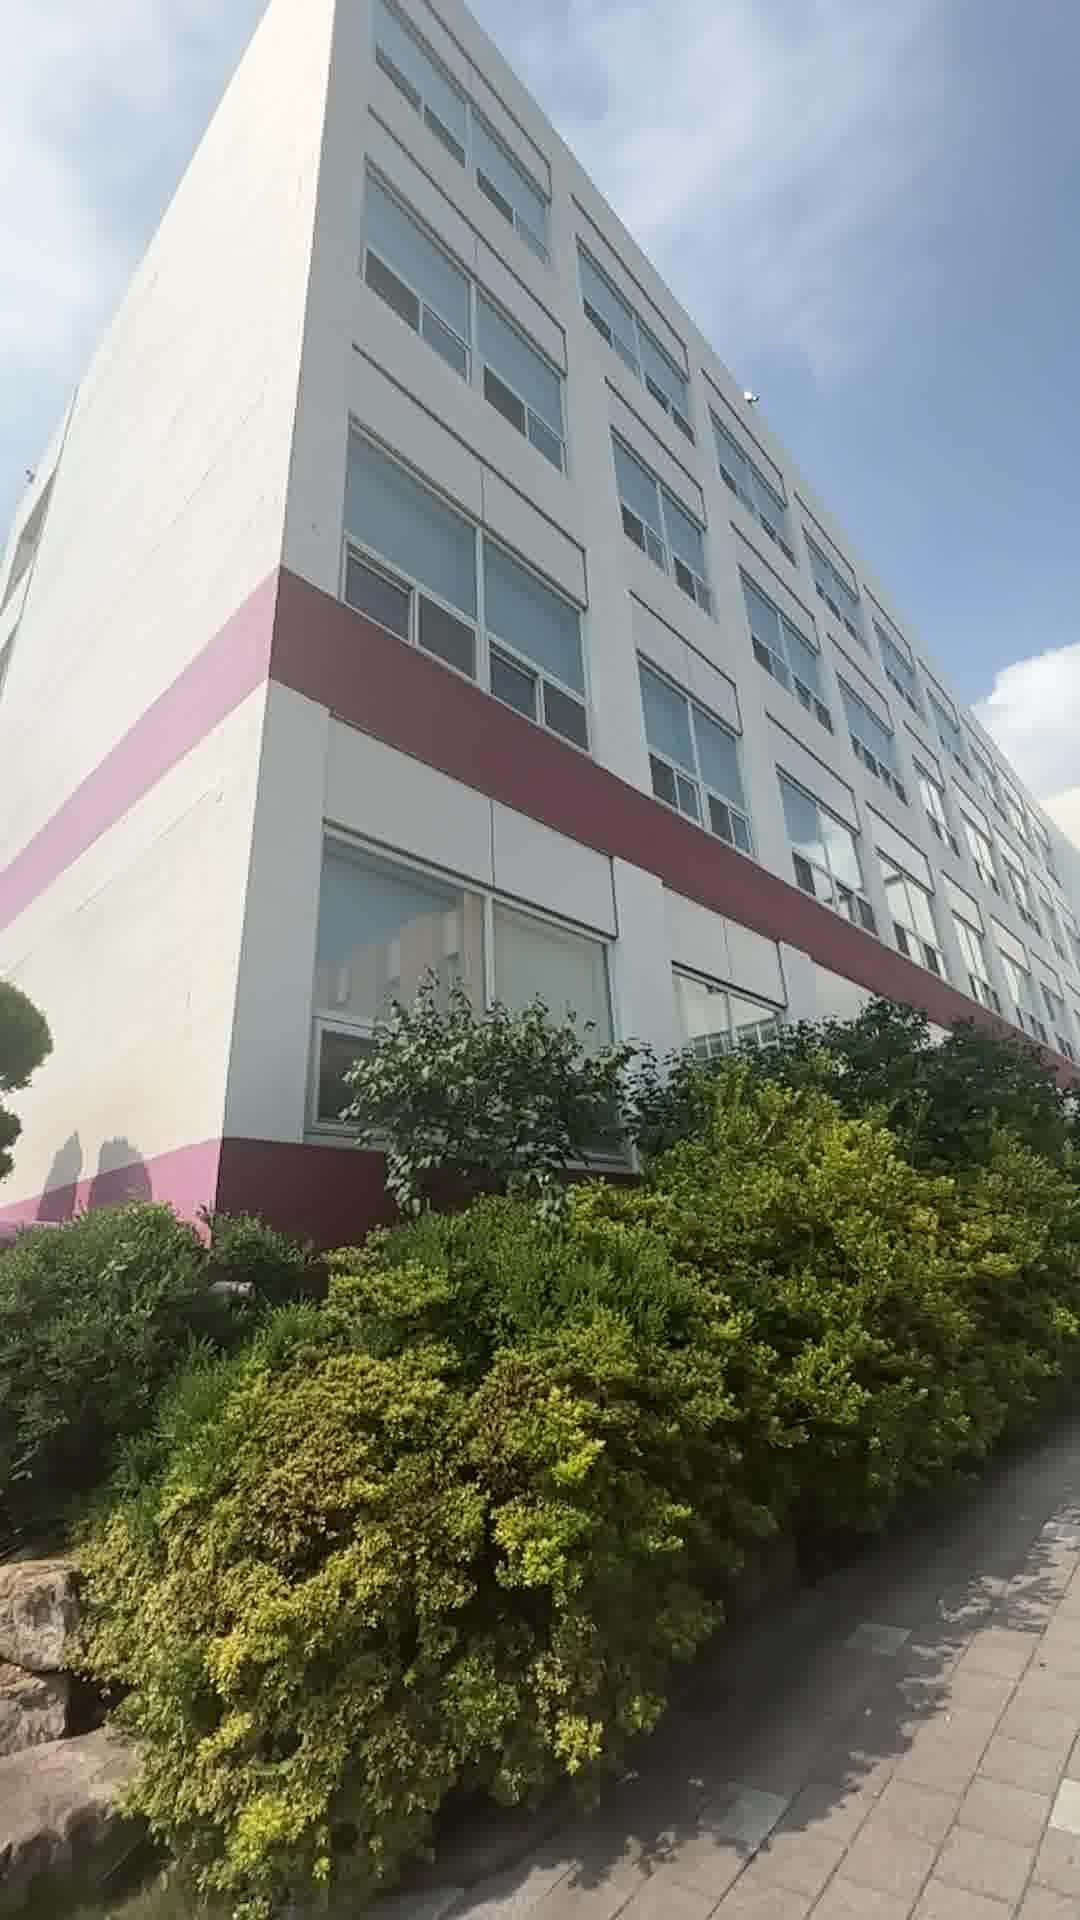building: (0, 20, 1080, 1069)
